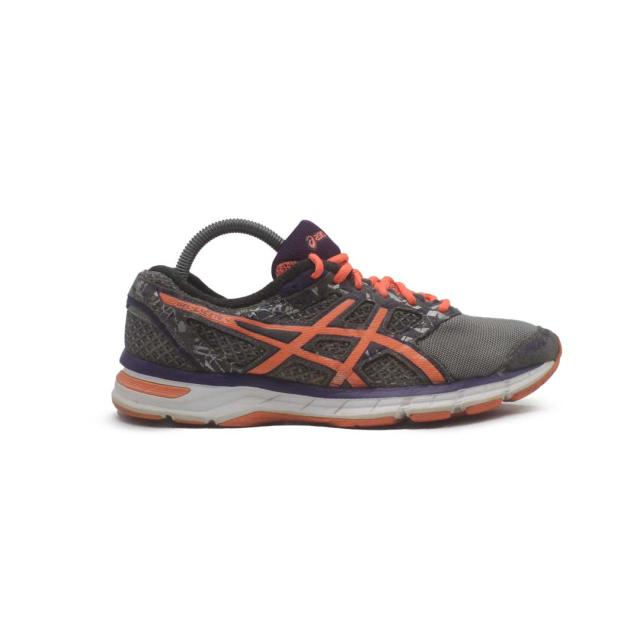heel: (120, 266, 234, 382)
midsole: (114, 348, 562, 427)
uppersole: (214, 217, 559, 400)
